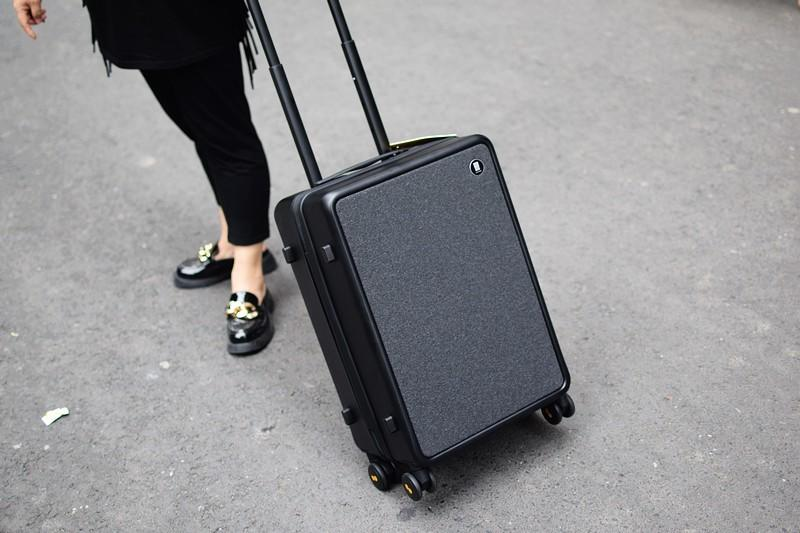box: (273, 133, 571, 465)
handle: (310, 148, 410, 185)
wheel: (541, 391, 576, 425), (402, 468, 437, 501), (368, 459, 400, 492)
